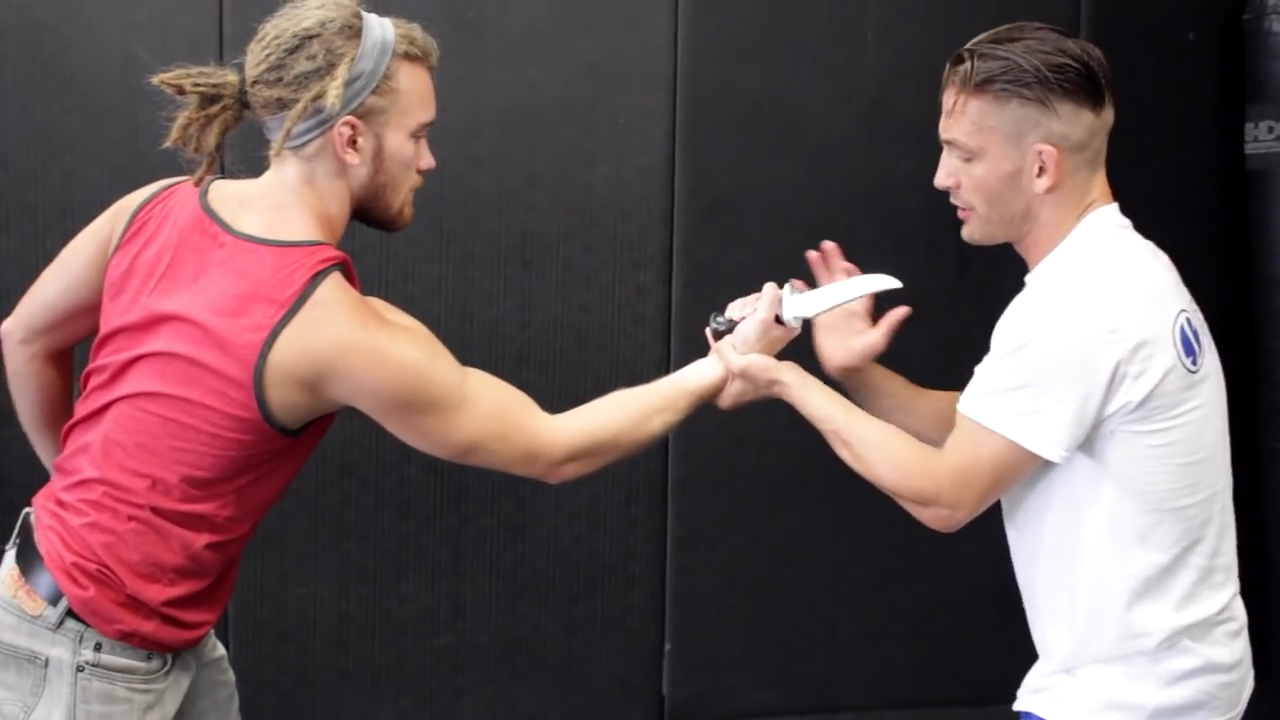knife: (696, 256, 914, 350)
